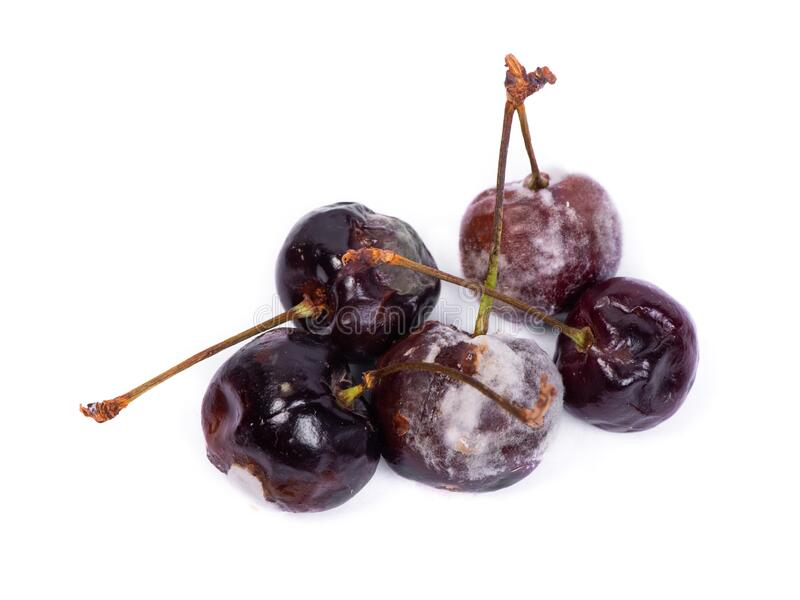cherry: (190, 329, 384, 511), (383, 322, 564, 492), (459, 171, 623, 328), (273, 200, 442, 346)
rotten: (460, 172, 622, 326), (411, 325, 563, 488), (346, 204, 441, 308)
